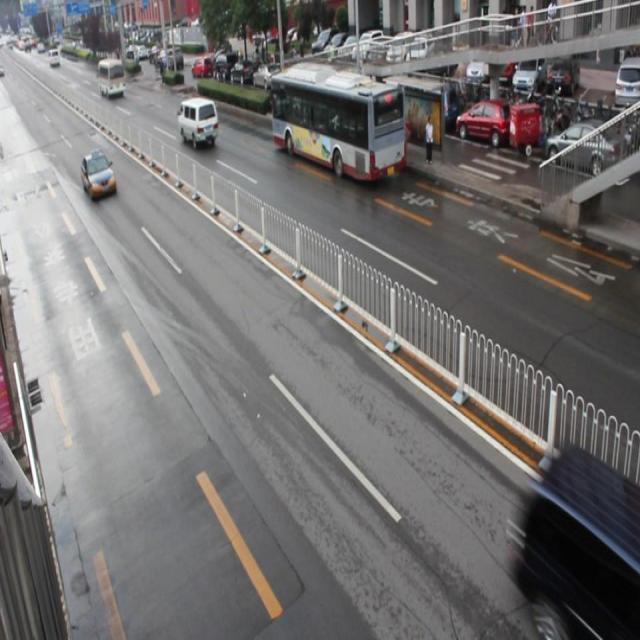car: (82, 151, 116, 199)
truck: (520, 448, 640, 640), (177, 97, 218, 148)
van: (271, 72, 404, 180)
